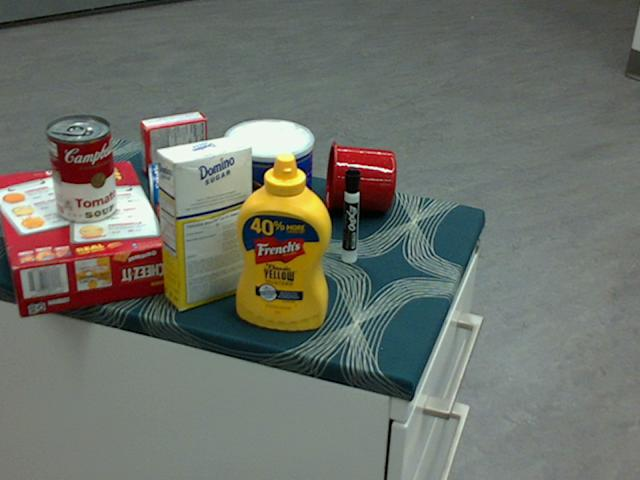cracker_box: (0, 159, 172, 316)
gelatin_box: (139, 111, 206, 176)
large_marker: (343, 167, 360, 262)
master_chef_can: (222, 118, 311, 262)
mug: (324, 139, 395, 211)
mustard_bottle: (236, 151, 332, 330)
potted_meat_can: (202, 128, 283, 215)
sugar_box: (155, 135, 252, 309)
tomato_soup_can: (46, 115, 116, 223)
tuna_fish_can: (145, 162, 177, 233)
